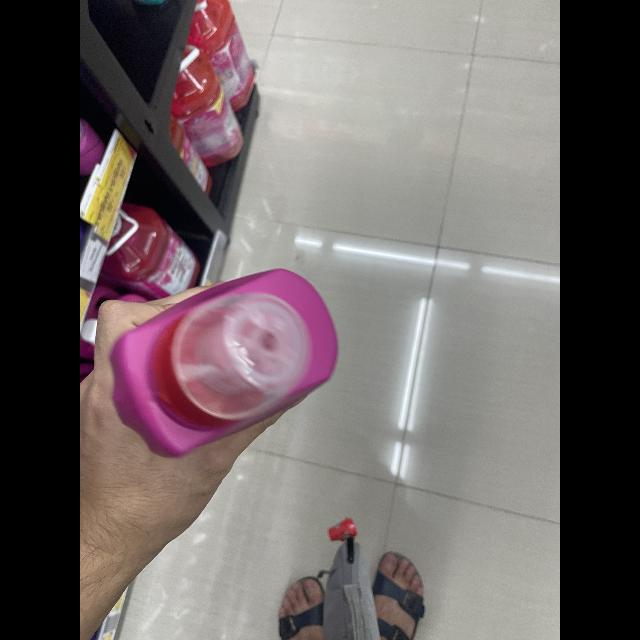chemical_plastic_bottle: (103, 258, 347, 454)
